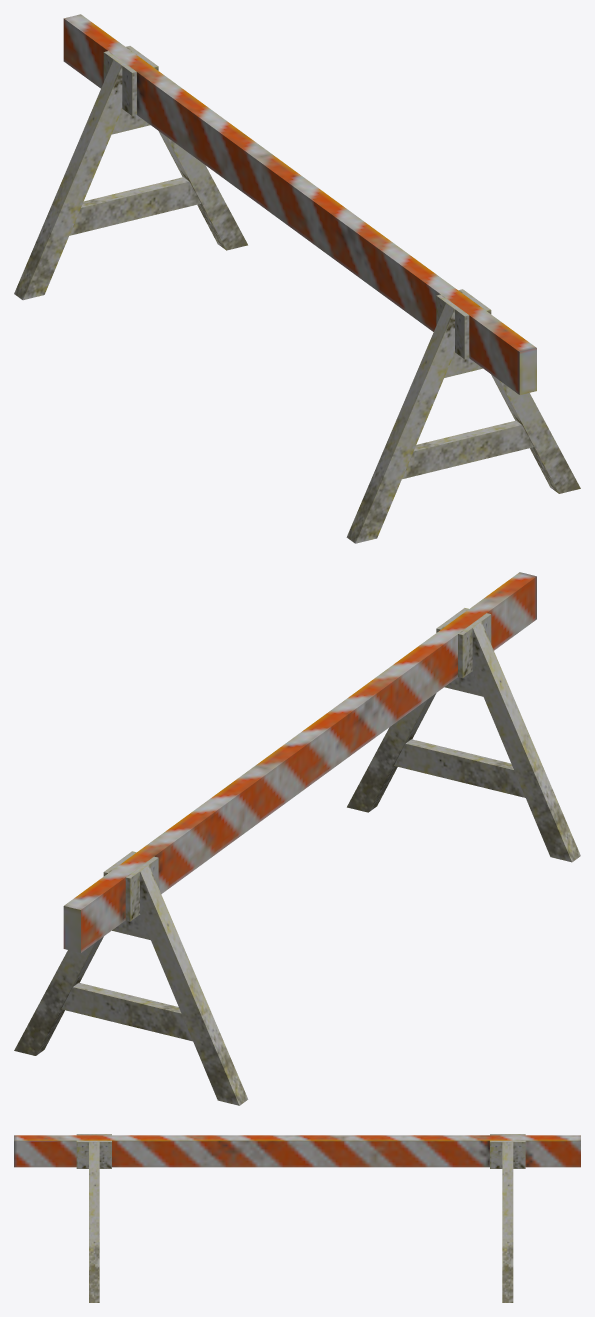
Rendered from road_block_3.fbx.
The picture shows the model from 3 angles, top to bottom: view 1: azimuth 30°, elevation 25°; view 2: azimuth 150°, elevation 25°; view 3: azimuth 270°, elevation 25°; orthographic projection. The views are drawn at different scales.
Visible parts, largest first — view 1: kw_barriers_stand_white__1_; view 2: kw_barriers_stand_white__1_; view 3: kw_barriers_stand_white__1_.
Boxes of the visible parts, x1=… form: kw_barriers_stand_white__1_: x1=14, y1=14, x2=580, y2=543; kw_barriers_stand_white__1_: x1=14, y1=572, x2=580, y2=1105; kw_barriers_stand_white__1_: x1=14, y1=1134, x2=580, y2=1302.
Size of the model in its own units: 62.84 by 55.96 by 220.
